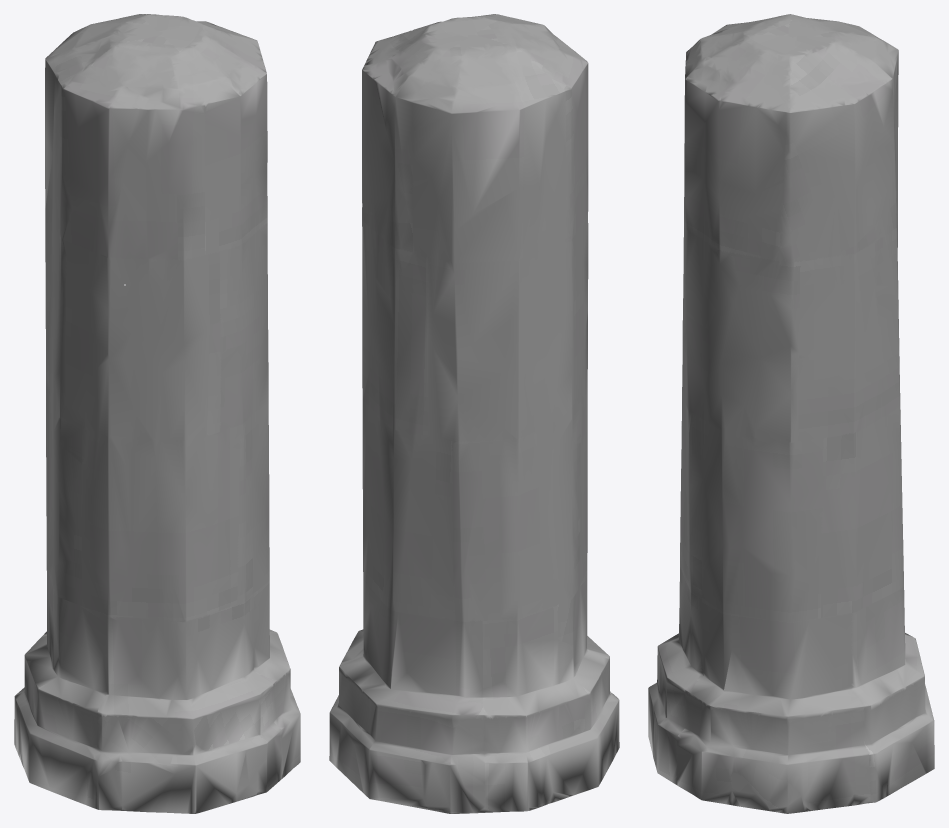
The model's file is s_glue_stick.glb.
The picture shows the model from 3 angles, left to right: view 1: azimuth 30°, elevation 25°; view 2: azimuth 150°, elevation 25°; view 3: azimuth 270°, elevation 25°; orthographic projection.
Visible parts, largest first — view 1: tripo_node_bf1aac01-b089-477c-a80d-2d0a184f262f; view 2: tripo_node_bf1aac01-b089-477c-a80d-2d0a184f262f; view 3: tripo_node_bf1aac01-b089-477c-a80d-2d0a184f262f.
Part boxes in pixels (<box>): tripo_node_bf1aac01-b089-477c-a80d-2d0a184f262f: <box>14,14,300,813</box>; tripo_node_bf1aac01-b089-477c-a80d-2d0a184f262f: <box>329,14,619,813</box>; tripo_node_bf1aac01-b089-477c-a80d-2d0a184f262f: <box>648,14,934,813</box>.
Bounding box in the file's own units: 0.3669 × 1 × 0.3616.
Materials: 1 (1 with a texture image).
